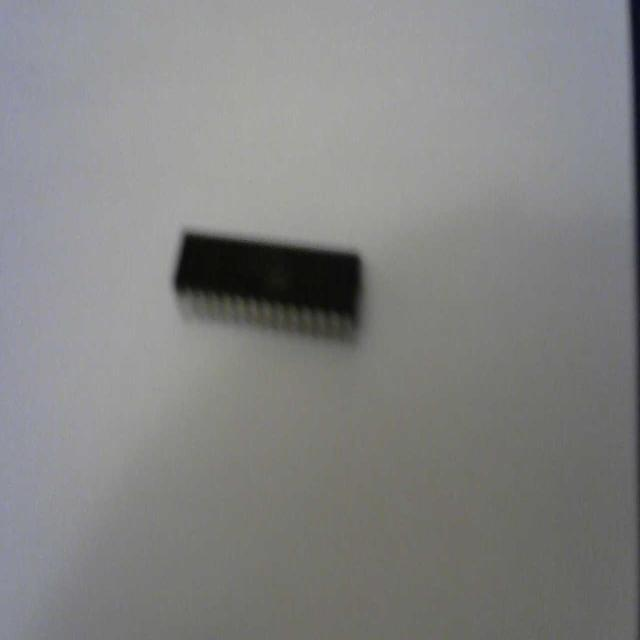atmega: (170, 223, 366, 349)
